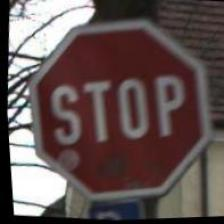Stop: (12, 5, 223, 213)
